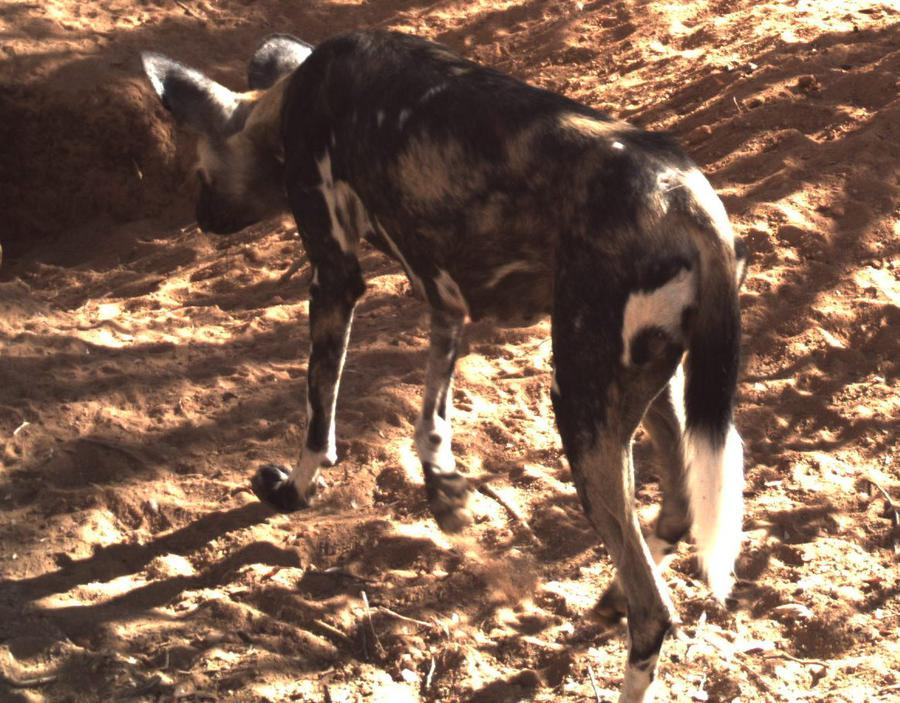wilddog: (203, 36, 727, 508)
